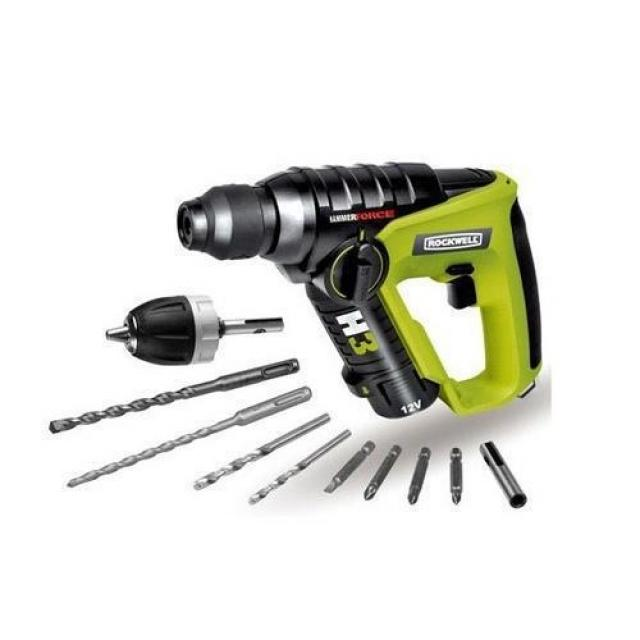Drill: (176, 161, 543, 419), (106, 296, 284, 367)
